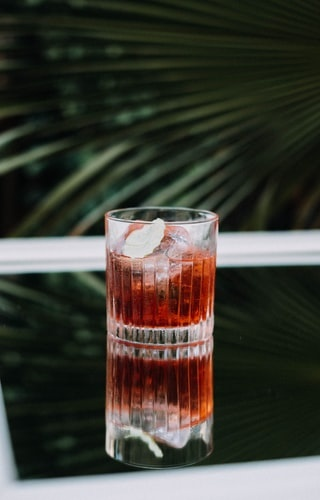whiskey: (102, 195, 224, 355)
